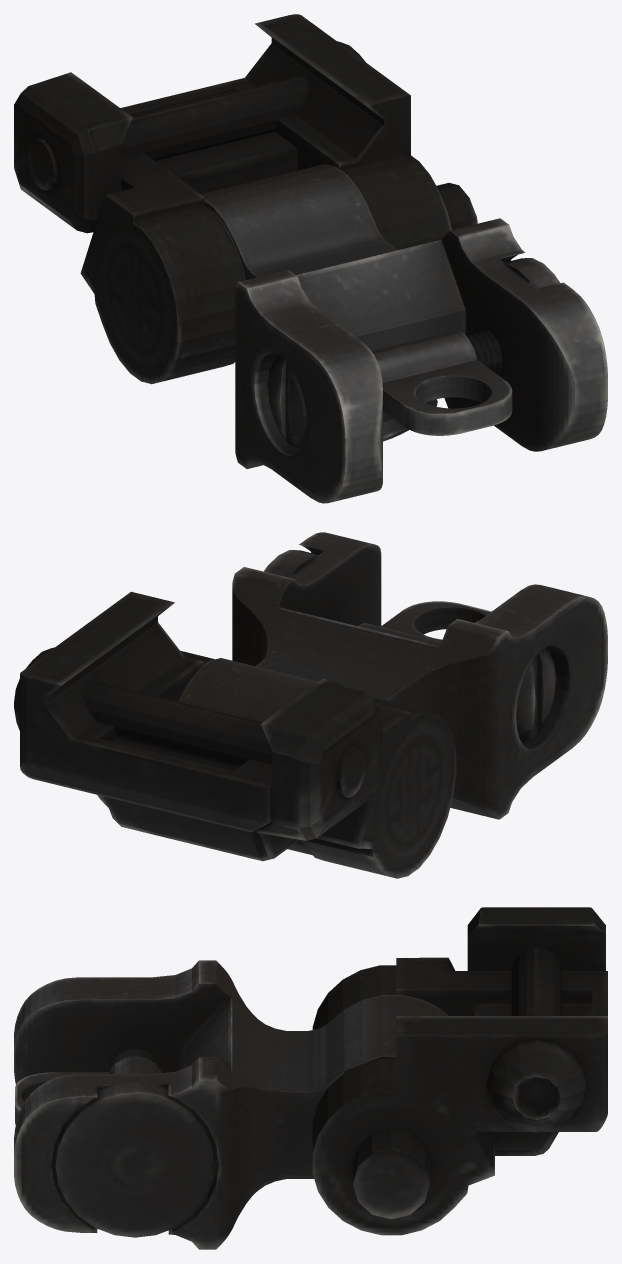
3 renders of one model, top to bottom at view 1: azimuth 30°, elevation 25°; view 2: azimuth 150°, elevation 25°; view 3: azimuth 270°, elevation 25°, orthographic. The views are drawn at different scales.
Visible parts, largest first — view 1: TW_5fc0fa957283c4046c58147e_folded_PZ_Import; view 2: TW_5fc0fa957283c4046c58147e_folded_PZ_Import; view 3: TW_5fc0fa957283c4046c58147e_folded_PZ_Import.
Boxes of the visible parts, x1=… form: TW_5fc0fa957283c4046c58147e_folded_PZ_Import: x1=14, y1=14, x2=607, y2=503; TW_5fc0fa957283c4046c58147e_folded_PZ_Import: x1=14, y1=532, x2=607, y2=878; TW_5fc0fa957283c4046c58147e_folded_PZ_Import: x1=14, y1=907, x2=607, y2=1249.
Bounding box in the file's own units: 0.0186 × 0.03 × 0.0128.
Materials: 1 (1 with a texture image).
